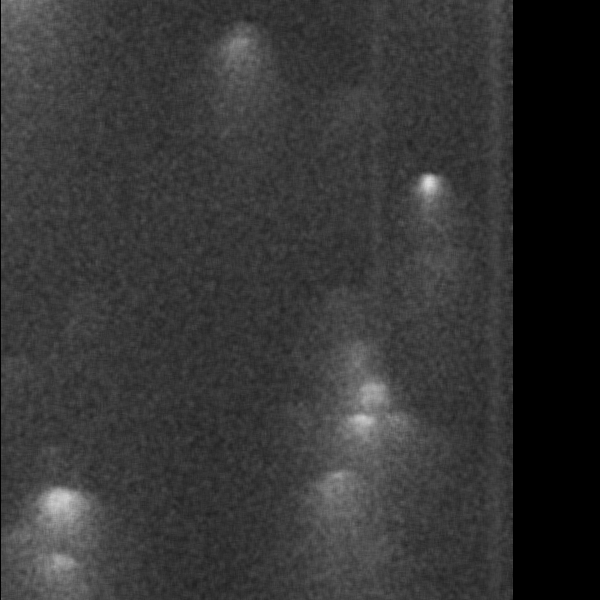spark: (22, 320, 90, 360), (18, 153, 77, 186), (19, 34, 71, 69), (5, 204, 42, 241), (347, 148, 394, 177), (8, 523, 37, 569), (65, 1, 99, 21)
